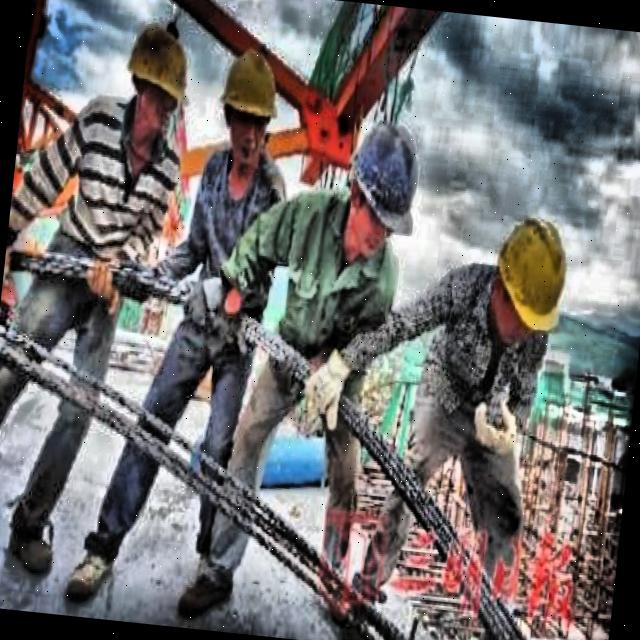helmet: (482, 200, 582, 360), (334, 106, 424, 258), (112, 13, 202, 163), (212, 38, 288, 172)
